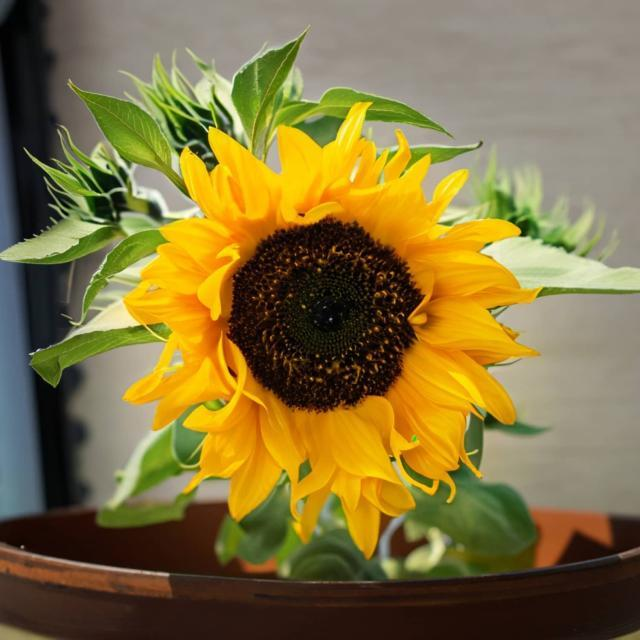sunflower: (120, 101, 543, 560)
